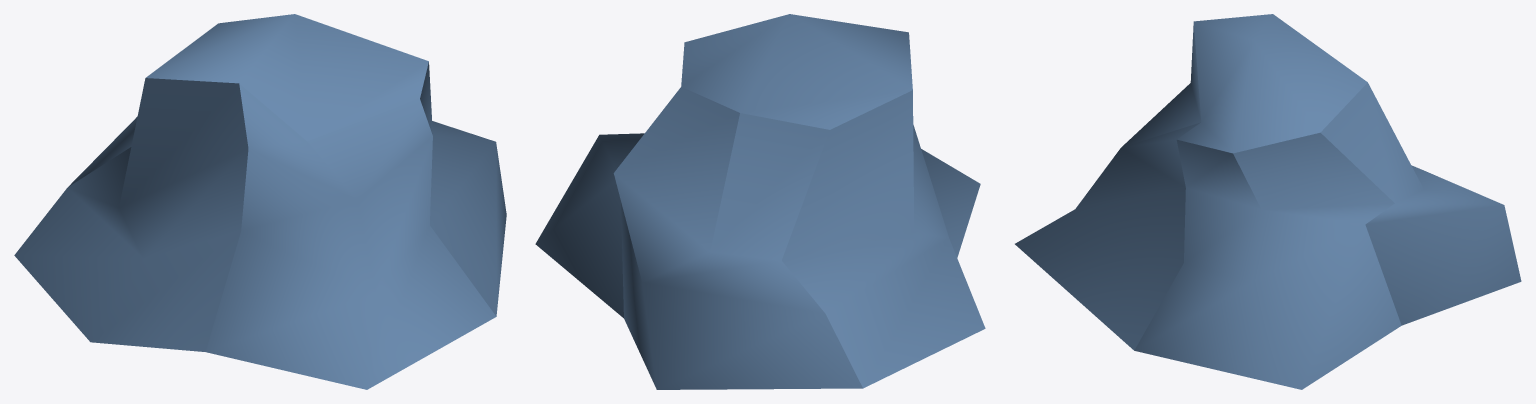
File: iceRock.fbx
The picture shows the model from 3 angles, left to right: view 1: azimuth 30°, elevation 25°; view 2: azimuth 150°, elevation 25°; view 3: azimuth 270°, elevation 25°; orthographic projection. The views are drawn at different scales.
Visible parts, largest first — view 1: pCube1; view 2: pCube1; view 3: pCube1.
Part boxes in pixels (bbox=[...]): pCube1: bbox=[14, 14, 506, 389]; pCube1: bbox=[535, 14, 985, 389]; pCube1: bbox=[1015, 14, 1521, 389].
Bounding box in the file's own units: 10.38 × 6.4 × 11.64.
